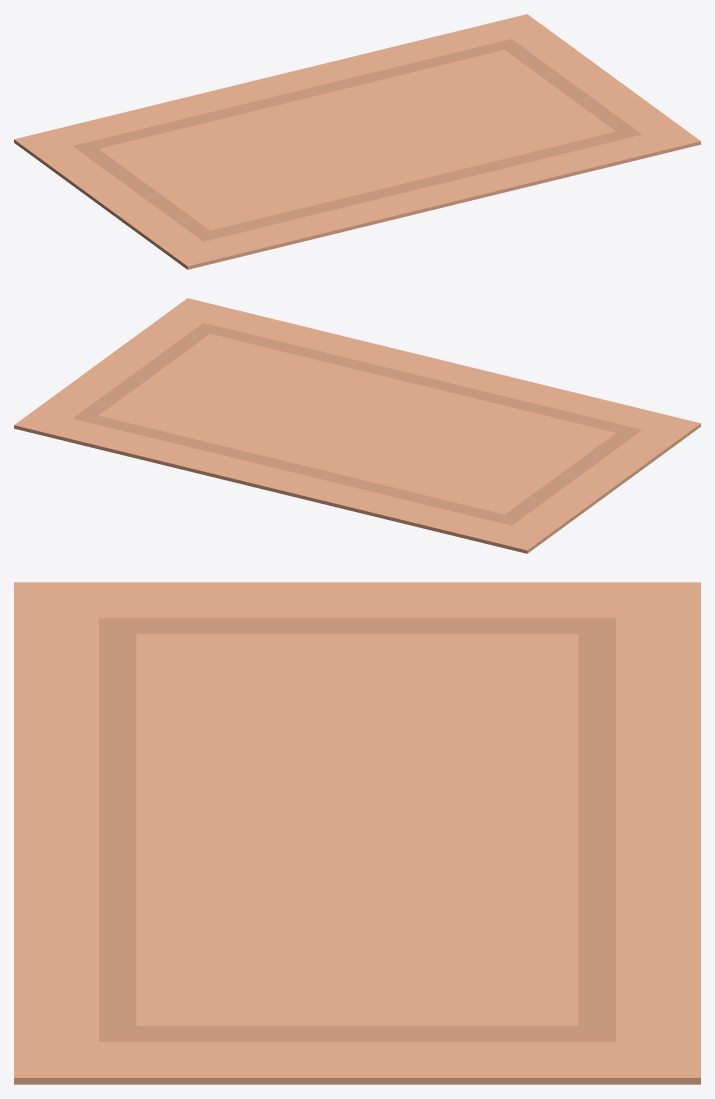
File: rugRectangle.glb
3 views of the same model, one above another, from view 1: azimuth 30°, elevation 25°; view 2: azimuth 150°, elevation 25°; view 3: azimuth 270°, elevation 25° (orthographic). The views are drawn at different scales.
Visible parts, largest first — view 1: rugRectangle; view 2: rugRectangle; view 3: rugRectangle.
Boxes of the visible parts, bbox=[...] form: rugRectangle: bbox=[14, 14, 700, 269]; rugRectangle: bbox=[14, 298, 700, 553]; rugRectangle: bbox=[14, 582, 700, 1084].
Size of the model in its own units: 3.14 by 0.02 by 1.84.
